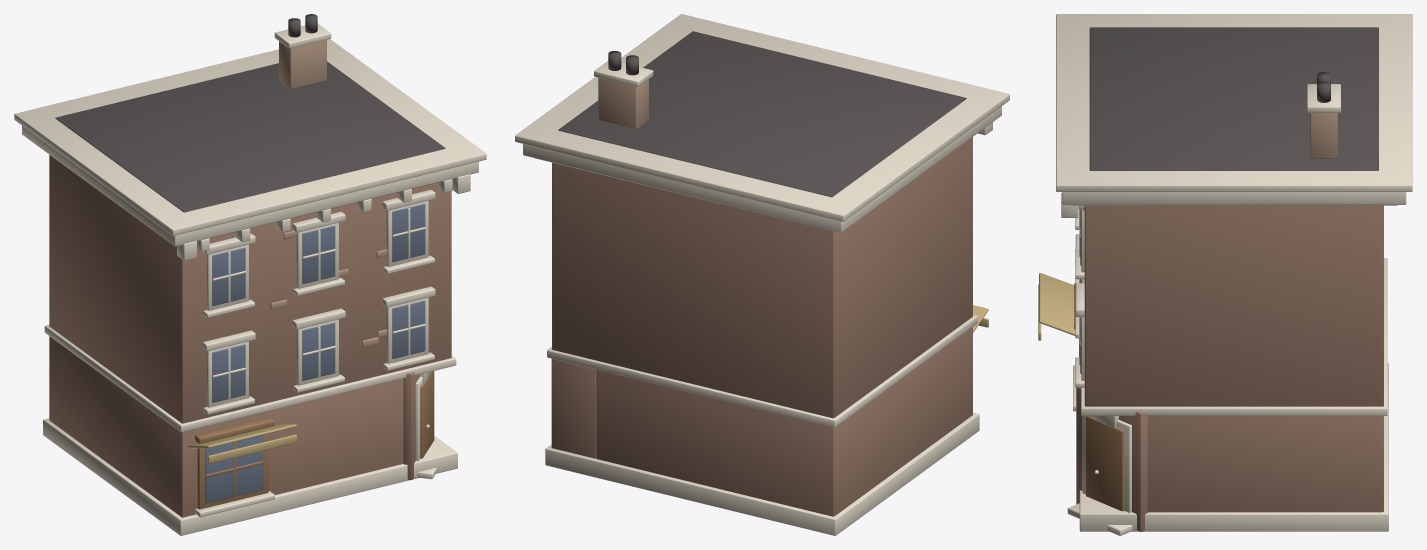
The model's file is edificio_02a.glb.
3 views of the same model, side by side, from view 1: azimuth 30°, elevation 25°; view 2: azimuth 150°, elevation 25°; view 3: azimuth 270°, elevation 25° (orthographic). The views are drawn at different scales.
Parts seen in each view (by area): view 1: corpo_sup, tetto, corpo_pt_sx, cornicione_corona, zoccolo, cornicione_fascia, fascia_pt, vetrina_vetro_L, comignolo_fusto, fin_p1_0_vetro, fin_p2_0_vetro, fin_p2_1_vetro (+20 smaller); view 2: corpo_sup, tetto, corpo_pt_sx, cornicione_corona, zoccolo, cornicione_fascia, fascia_pt, corpo_pt_dx, comignolo_fusto, comignolo_cappello; view 3: corpo_sup, tetto, corpo_pt_dx, cornicione_corona, zoccolo, cornicione_fascia, fascia_pt, angolo_porta, angolo_pannello, tenda_negozio, comignolo_fusto, angolo_porta_cornice (+1 smaller).
Part boxes in pixels (x1,y1,x2,y2): corpo_sup: [49, 155, 451, 423]; tetto: [55, 61, 445, 212]; corpo_pt_sx: [49, 336, 403, 517]; cornicione_corona: [14, 39, 486, 235]; zoccolo: [43, 418, 457, 535]; cornicione_fascia: [22, 126, 478, 246]; fascia_pt: [44, 325, 456, 432]; vetrina_vetro_L: [205, 435, 263, 503]; comignolo_fusto: [279, 39, 326, 89]; fin_p1_0_vetro: [212, 344, 245, 402]; fin_p2_0_vetro: [212, 247, 245, 305]; fin_p2_1_vetro: [302, 225, 335, 283]; corpo_sup: [552, 137, 972, 418]; tetto: [558, 31, 966, 197]; corpo_pt_sx: [596, 327, 972, 516]; cornicione_corona: [515, 14, 1009, 221]; zoccolo: [545, 412, 979, 535]; cornicione_fascia: [523, 106, 1001, 232]; fascia_pt: [547, 315, 977, 427]; corpo_pt_dx: [551, 358, 596, 458]; comignolo_fusto: [598, 77, 648, 129]; comignolo_cappello: [594, 61, 653, 86]; corpo_sup: [1084, 205, 1383, 406]; tetto: [1089, 27, 1378, 170]; corpo_pt_dx: [1148, 416, 1383, 512]; cornicione_corona: [1056, 14, 1412, 191]; zoccolo: [1079, 363, 1388, 531]; cornicione_fascia: [1062, 192, 1406, 204]; fascia_pt: [1081, 258, 1387, 415]; angolo_porta: [1086, 416, 1124, 511]; angolo_pannello: [1076, 387, 1147, 531]; tenda_negozio: [1039, 273, 1075, 335]; comignolo_fusto: [1310, 113, 1337, 158]; angolo_porta_cornice: [1082, 416, 1131, 512].
Bounding box in the file's own units: 8.15 × 9.46 × 7.51.
